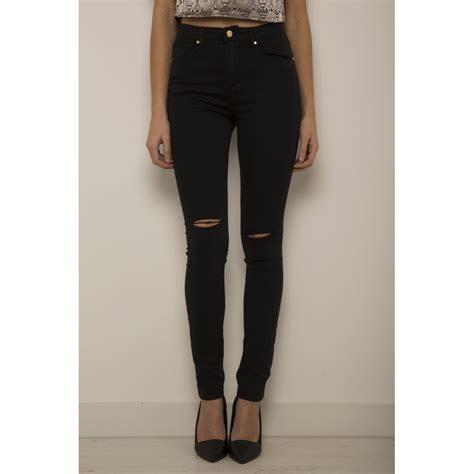pants: (166, 23, 300, 404)
